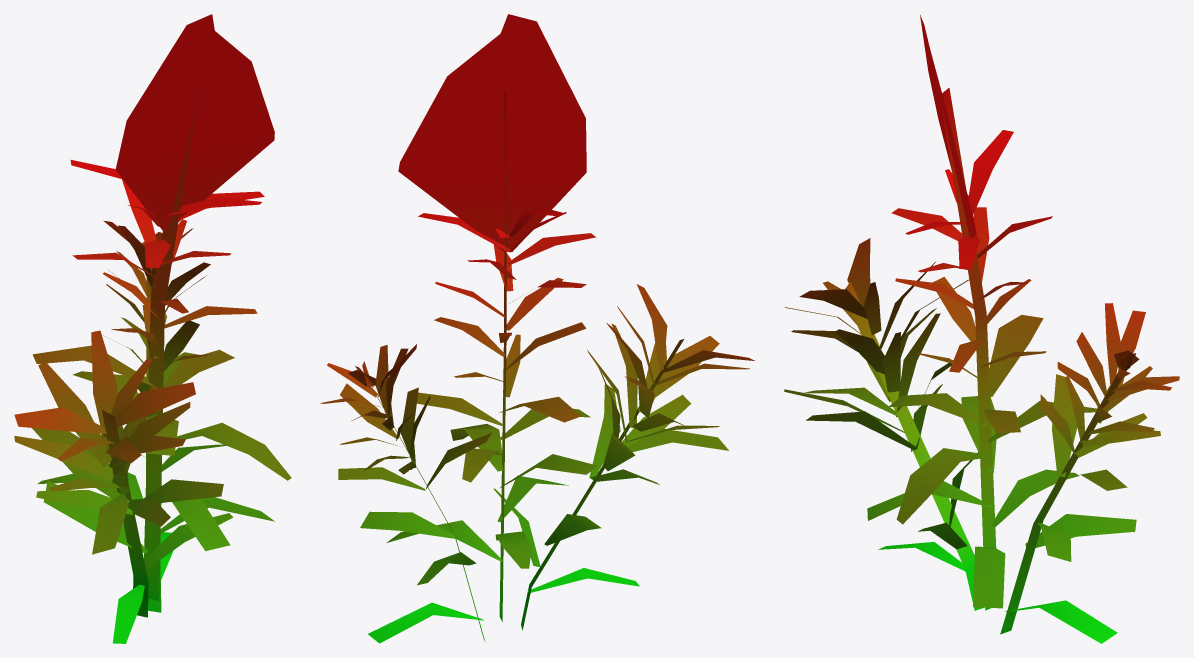
File: Goldenrods_LOD6_Var4.fbx
3 views of the same model, side by side, from view 1: azimuth 30°, elevation 25°; view 2: azimuth 150°, elevation 25°; view 3: azimuth 270°, elevation 25° (orthographic). The views are drawn at different scales.
Parts seen in each view (by area): view 1: _53n6_Var4_LOD6; view 2: _53n6_Var4_LOD6; view 3: _53n6_Var4_LOD6.
Boxes of the visible parts, bbox=[...] form: _53n6_Var4_LOD6: bbox=[14, 14, 291, 643]; _53n6_Var4_LOD6: bbox=[320, 14, 754, 643]; _53n6_Var4_LOD6: bbox=[784, 15, 1179, 643].
Bounding box in the file's own units: 49.87 × 94.18 × 54.81.
